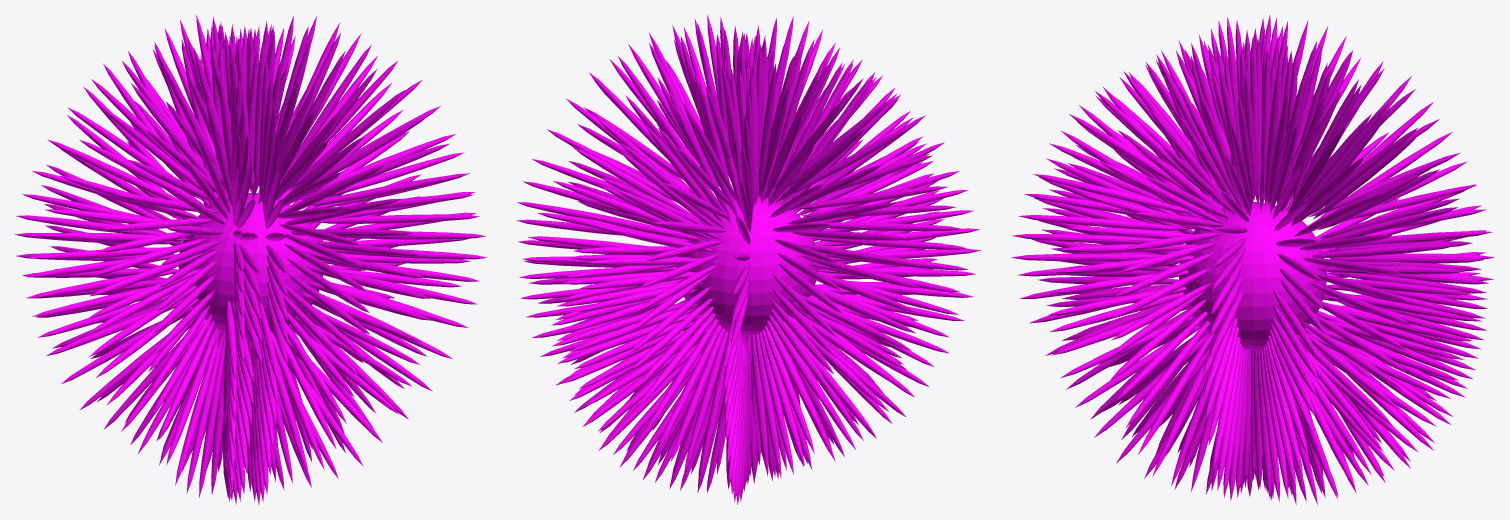
The model's file is fireworkpurple.glb.
3 views of the same model, side by side, from view 1: azimuth 30°, elevation 25°; view 2: azimuth 150°, elevation 25°; view 3: azimuth 270°, elevation 25° (orthographic). The views are drawn at different scales.
Visible parts, largest first — view 1: sparks1; view 2: sparks1; view 3: sparks1.
Boxes of the visible parts, x1,y1,x2,y2 form: sparks1: (14,15,487,504); sparks1: (516,15,980,504); sparks1: (1011,15,1494,505).
Size of the model in its own units: 11.21 by 12 by 11.44.
